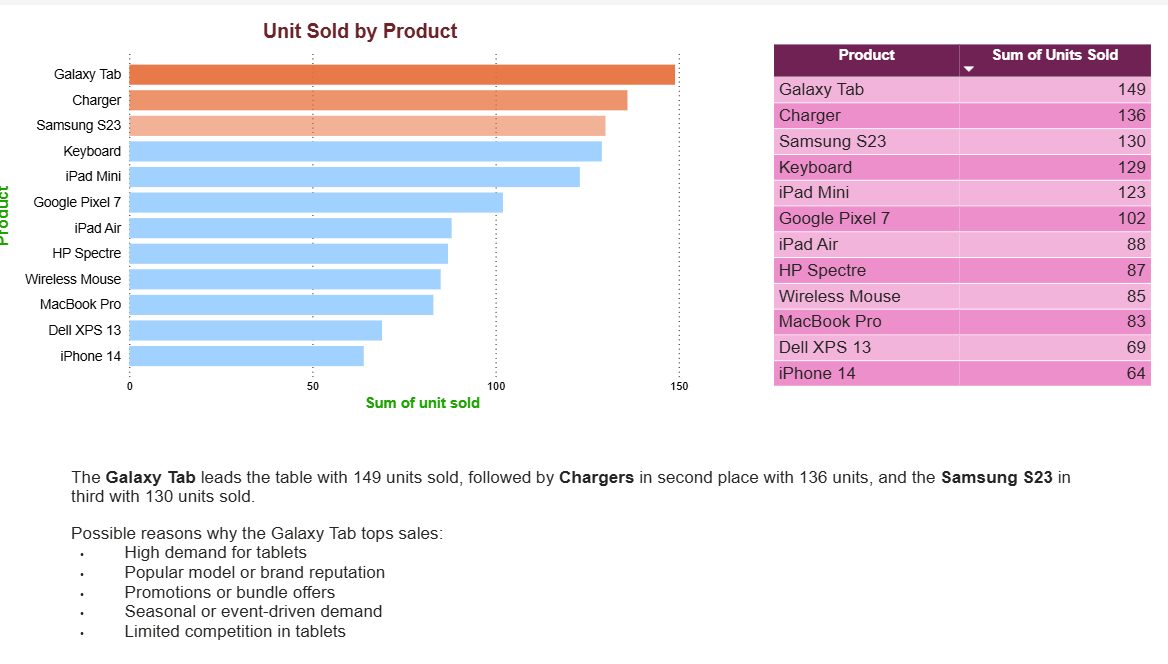

The dashboard page shown, as its layout file describes it:
{"tool":"powerbi","page":{"name":"What were the top 3 best-selling products by units sold?","canvas":[1280,720],"ordinal":4},"visuals":[{"type":"clusteredBarChart","title":"UNIT SOLD BY PRODUCT","fields":{"Category":["RR-PRAC4 - retail_sales_q1_2025_large.Product"],"Y":["Sum(RR-PRAC4 - retail_sales_q1_2025_large.Units Sold)"]},"box":[0,16.6,803.4,429],"z":0},{"type":"tableEx","fields":{"Values":["RR-PRAC4 - retail_sales_q1_2025_large.Product","Sum(RR-PRAC4 - retail_sales_q1_2025_large.Units Sold)"]},"box":[839.8,16.6,422.4,386],"z":1000},{"type":"textbox","box":[82.8,496.9,1114.8,223.6],"z":2000}]}

Visuals, with their boxes in screenshot pixels (x1, y1, x2, y2), scaled from the page's 1280x720 canvas onto the 1168x664 screenshot:
"UNIT SOLD BY PRODUCT" clusteredBarChart: [left=0, top=15, right=733, bottom=411]
tableEx - RR-PRAC4 - retail_sales_q1_2025_large.Product x Sum(RR-PRAC4 - retail_sales_q1_2025_large.Units Sold): [left=766, top=15, right=1152, bottom=371]
textbox: [left=76, top=458, right=1093, bottom=663]
